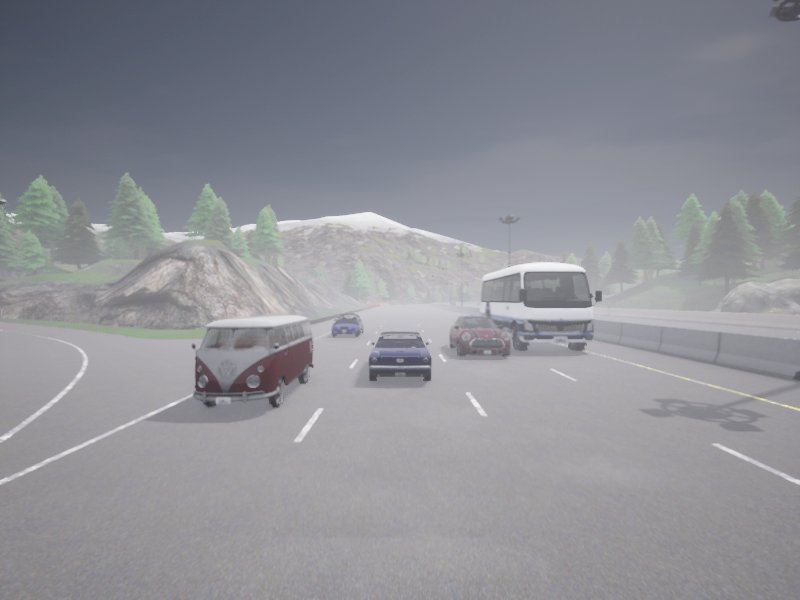vehicle: (191, 315, 313, 406), (480, 262, 601, 350), (369, 331, 431, 381), (449, 313, 510, 356), (331, 314, 362, 336), (449, 302, 454, 304)
